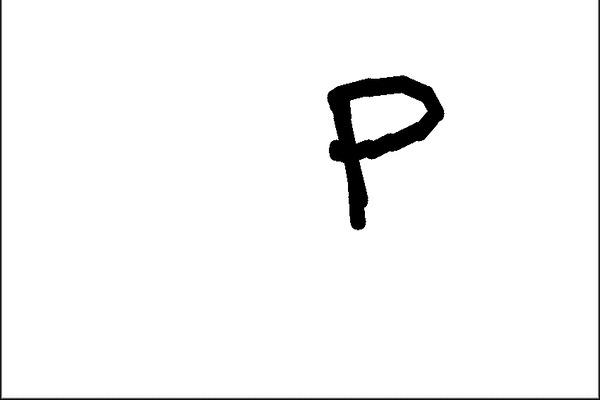P: (312, 63, 481, 241)
